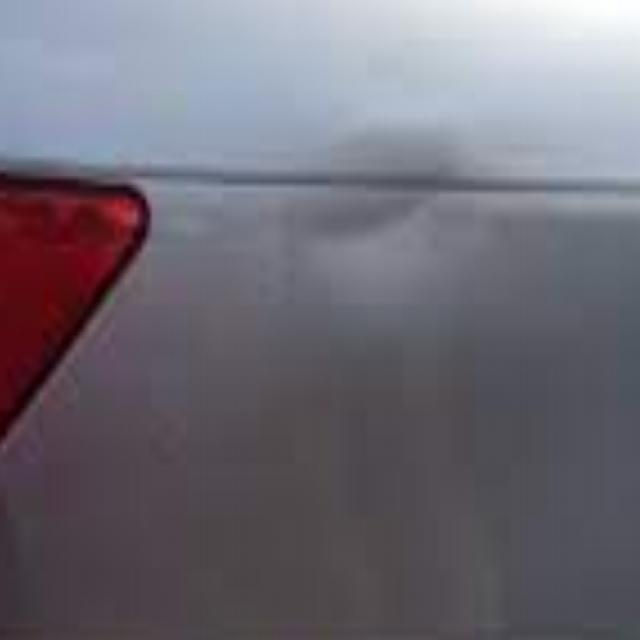dents: (297, 157, 455, 294)
